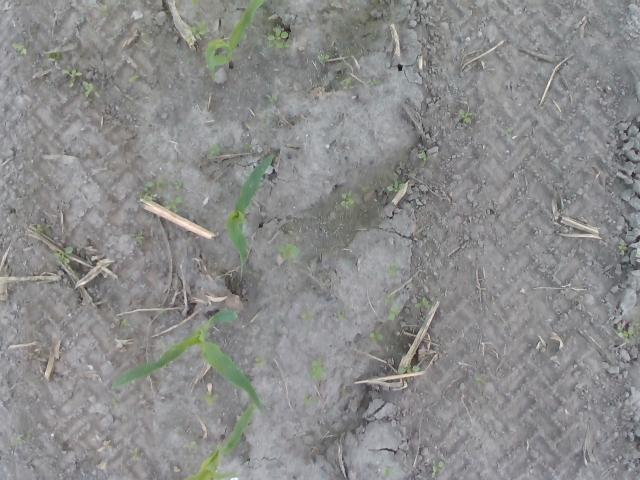Maize: (110, 308, 269, 417), (224, 153, 274, 280), (178, 406, 258, 480), (205, 0, 266, 81)
Weeds: (42, 55, 98, 100), (143, 179, 181, 215), (266, 26, 290, 54), (618, 318, 640, 344), (188, 22, 208, 44), (278, 242, 300, 261), (383, 297, 397, 323), (312, 358, 326, 381), (55, 246, 72, 264), (458, 110, 474, 126), (370, 331, 384, 346), (432, 463, 447, 477), (12, 44, 28, 57), (208, 142, 222, 156), (342, 193, 354, 209), (341, 78, 355, 91), (205, 395, 219, 407), (502, 128, 516, 140), (35, 222, 47, 236), (388, 181, 404, 191), (255, 357, 268, 369), (418, 298, 432, 308), (13, 436, 26, 446), (382, 466, 392, 476), (268, 93, 278, 103), (317, 54, 328, 63), (619, 240, 626, 254), (306, 396, 314, 404), (389, 267, 398, 274)
